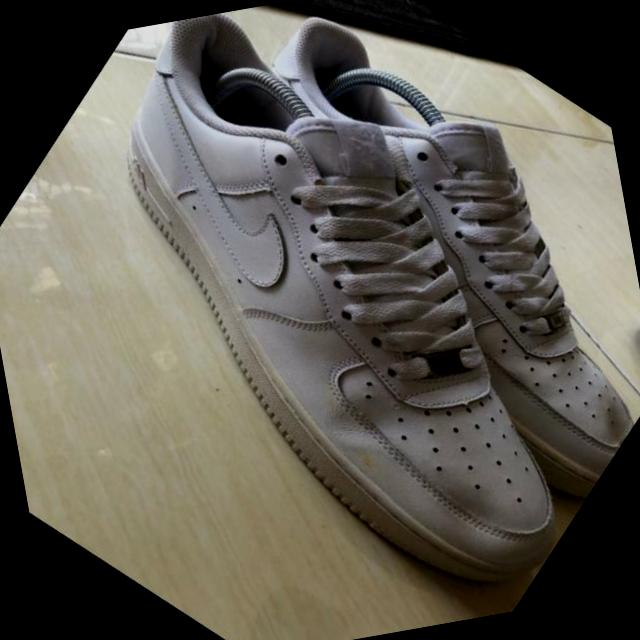nike_fake_airforce: (0, 0, 640, 640), (120, 0, 640, 574)
